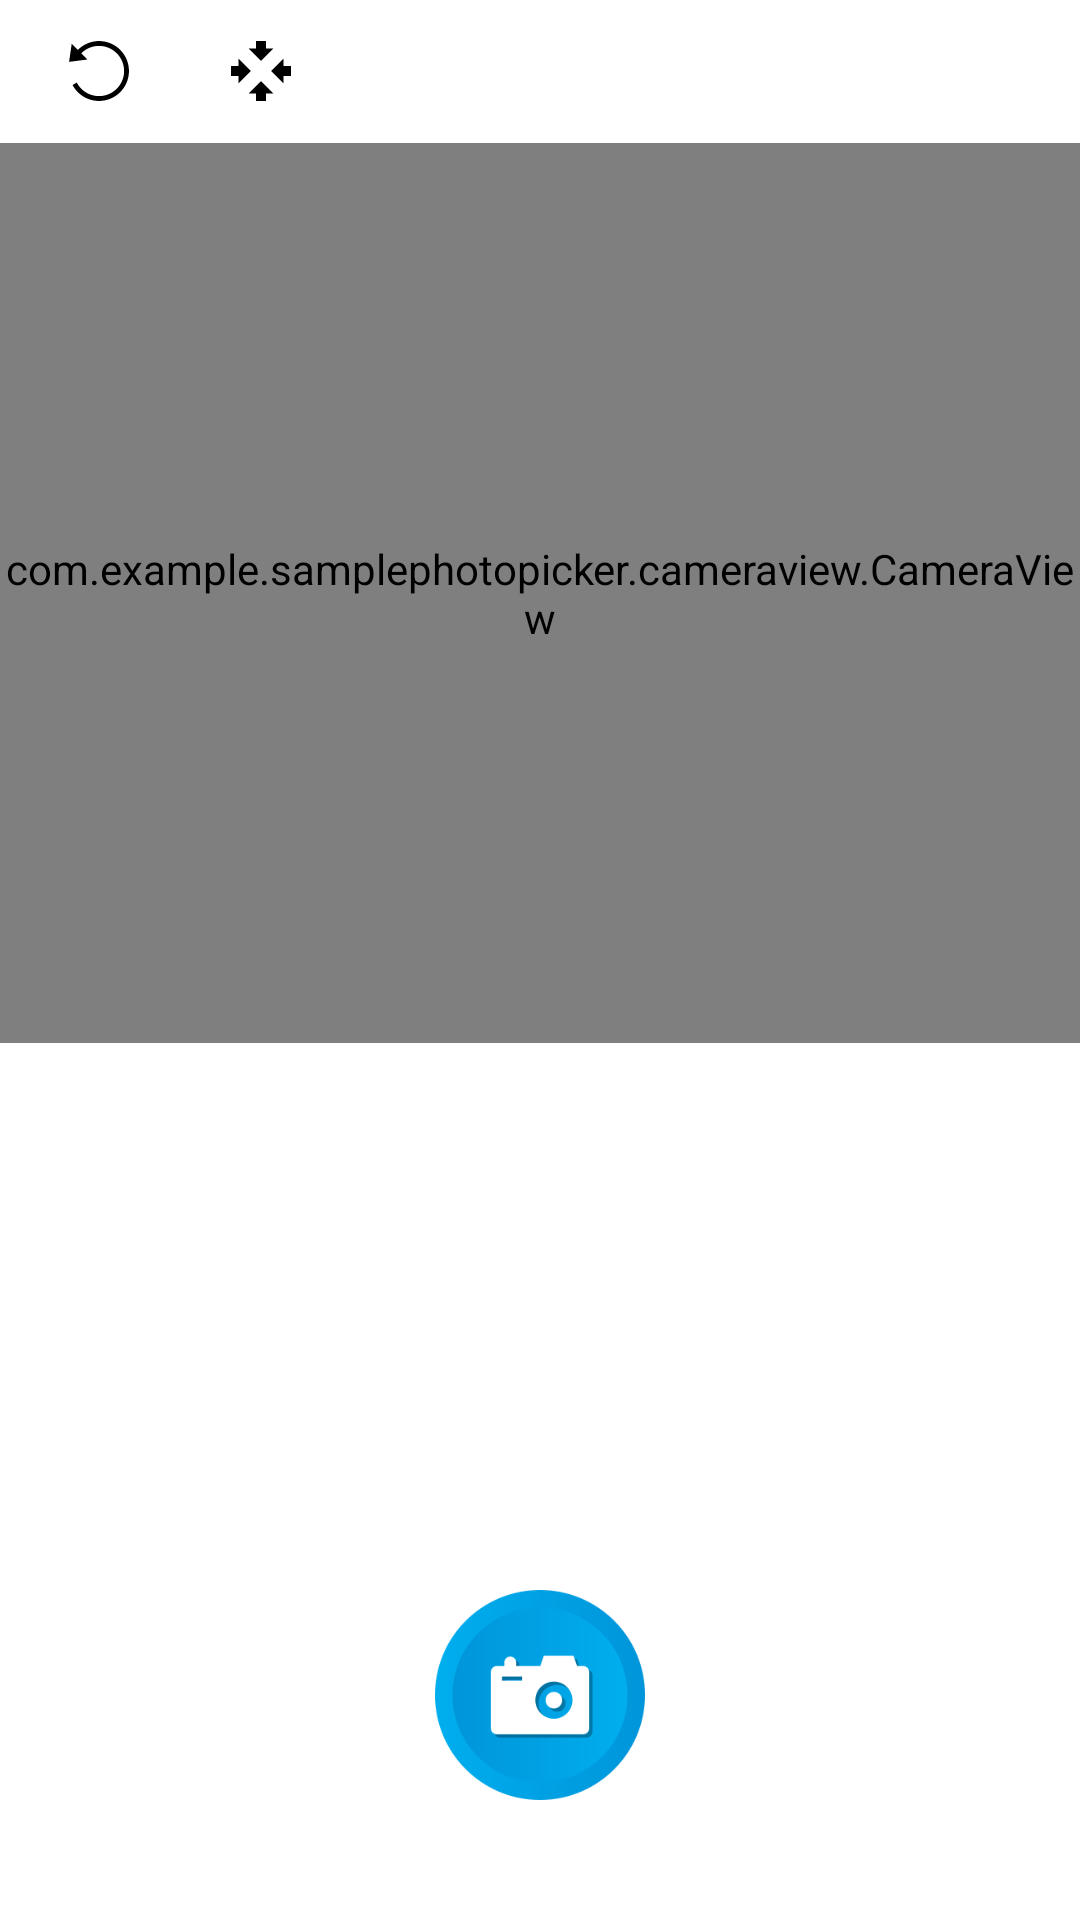

Icons on this 1080 x 1920 Android screen, each with the point to tap as (x=x, y=y):
miniscreen: (x=261, y=71)
reverse: (x=99, y=71)
take picture: (x=540, y=1695)
